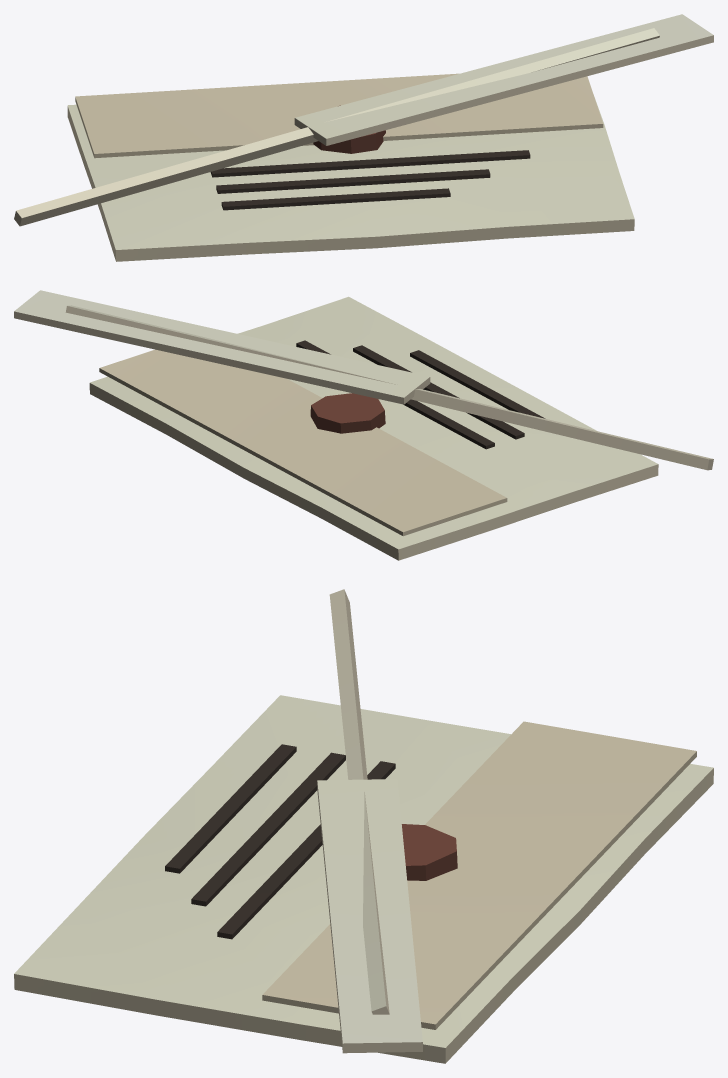
The model's file is ph_item_letter_reply.glb.
3 renders of one model, top to bottom at view 1: azimuth 30°, elevation 25°; view 2: azimuth 150°, elevation 25°; view 3: azimuth 270°, elevation 25°, orthographic. The views are drawn at different scales.
Visible parts, largest first — view 1: ph_item_letter_reply; view 2: ph_item_letter_reply; view 3: ph_item_letter_reply.
Part boxes in pixels (bbox=[...]): ph_item_letter_reply: bbox=[14, 14, 713, 261]; ph_item_letter_reply: bbox=[14, 290, 713, 560]; ph_item_letter_reply: bbox=[14, 589, 713, 1063].
Bounding box in the file's own units: 0.2457 × 0.0222 × 0.1573.
